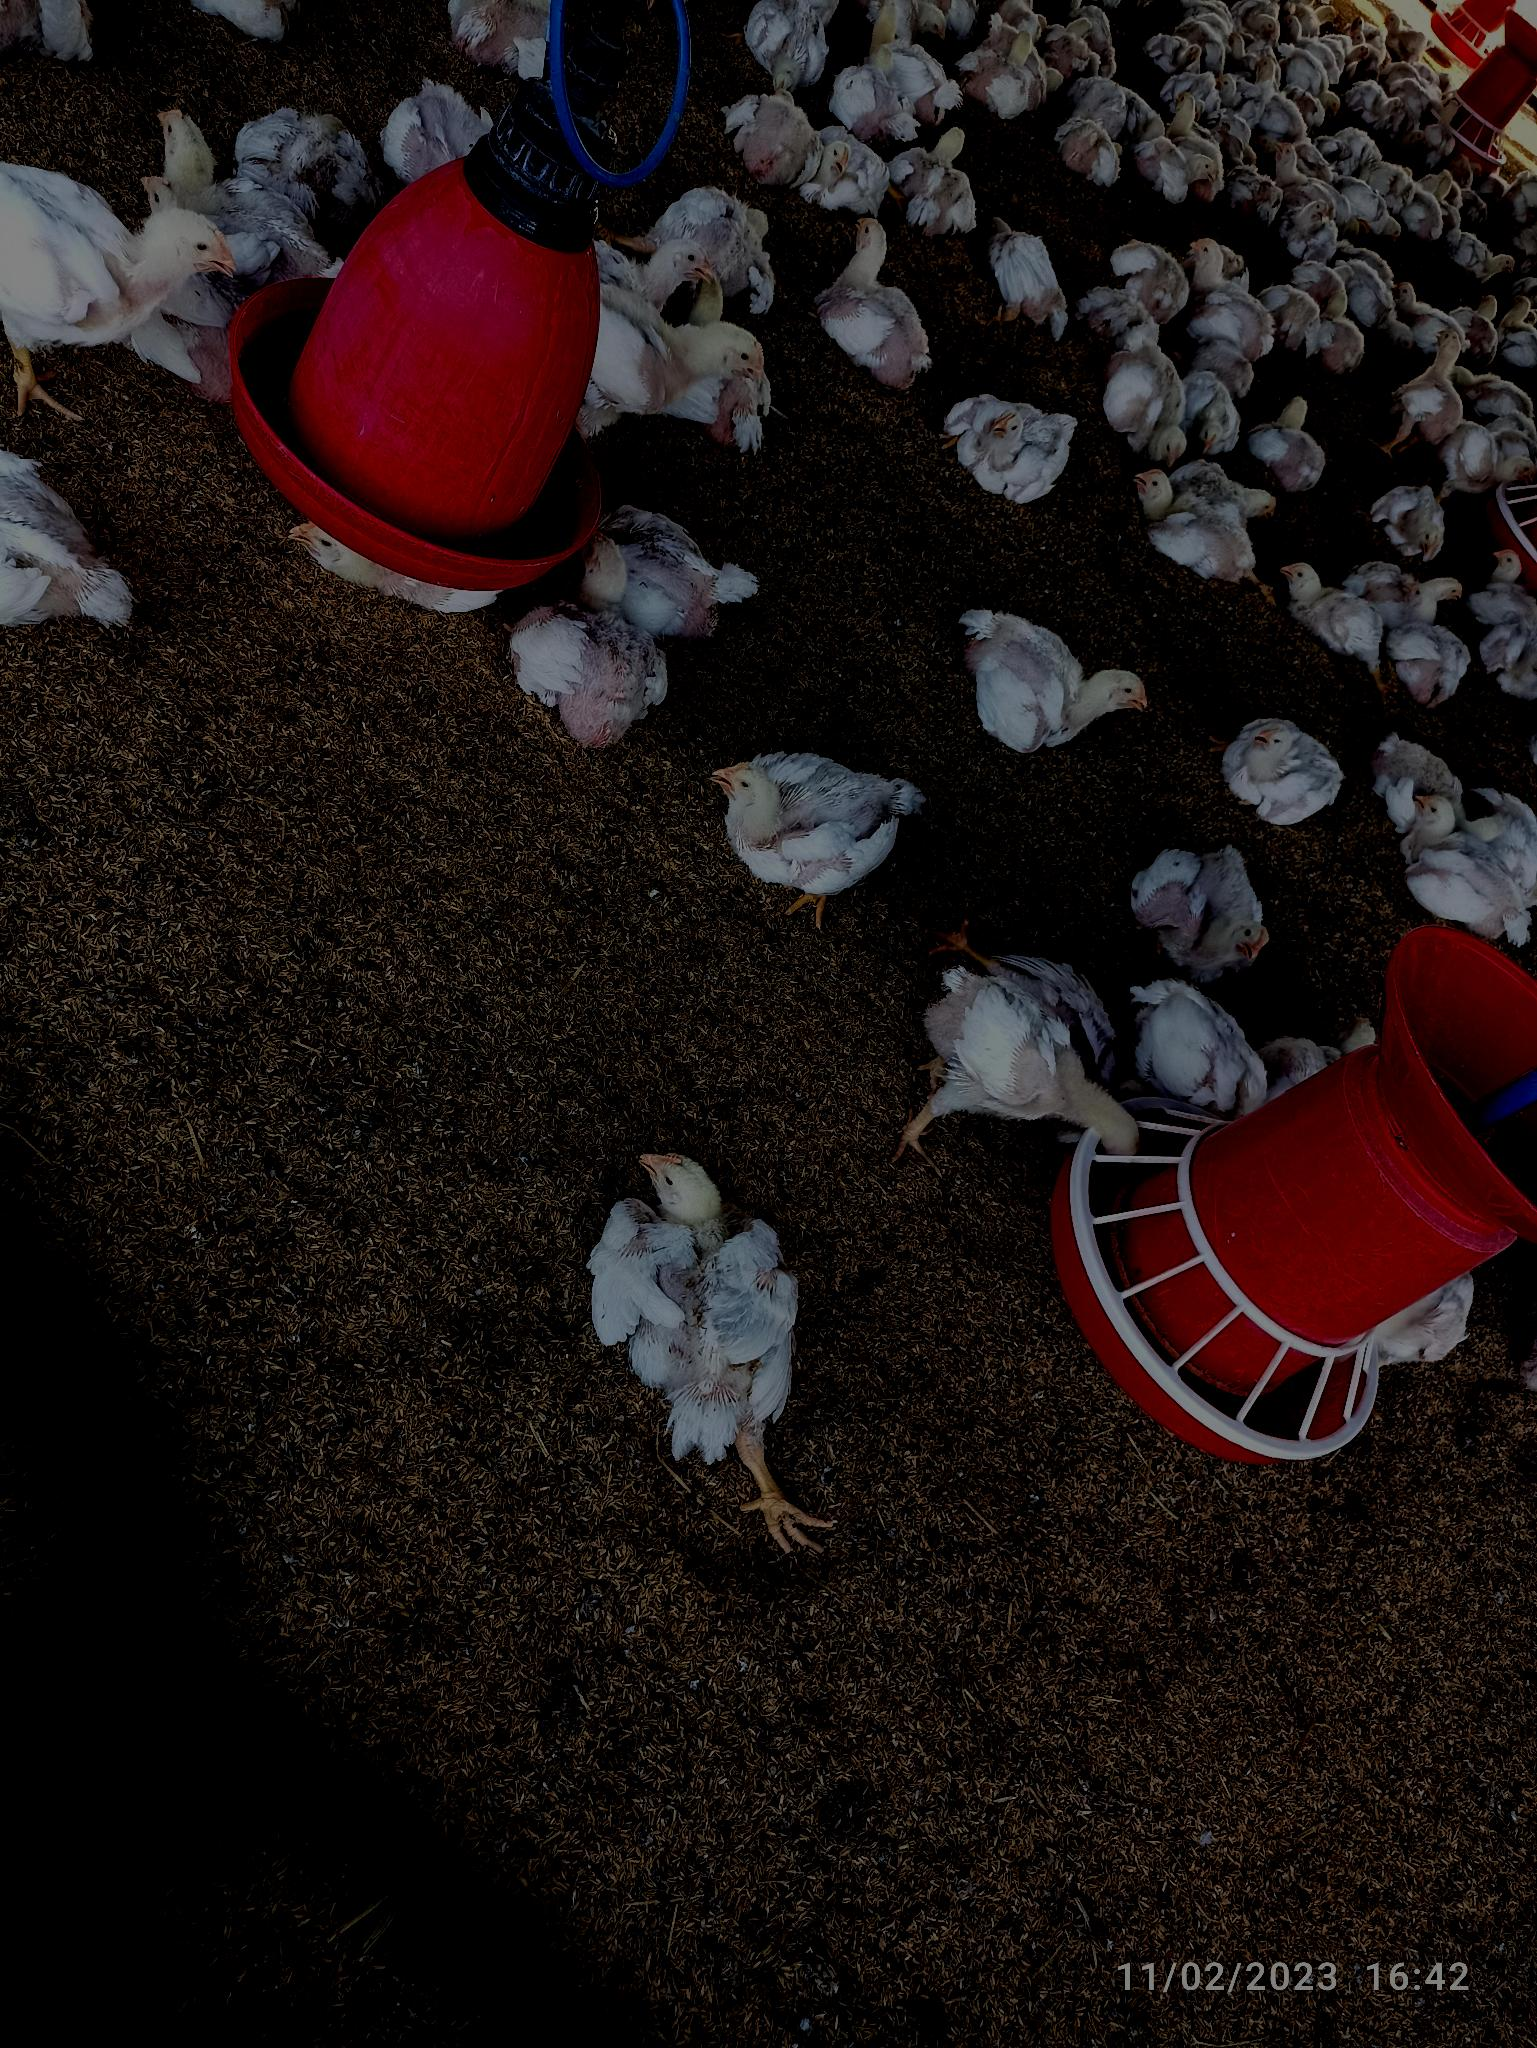Pollos: (591, 1143, 806, 1452), (920, 962, 1146, 1159), (2, 158, 232, 349), (584, 265, 775, 455), (509, 529, 665, 754), (953, 600, 1156, 757), (706, 747, 919, 894), (801, 208, 933, 387), (1132, 841, 1284, 991), (1405, 784, 1532, 941), (1132, 452, 1264, 576), (1274, 554, 1392, 688), (1221, 712, 1348, 826), (1385, 323, 1477, 470), (946, 395, 1066, 502), (1177, 236, 1284, 355), (980, 223, 1083, 337), (896, 124, 986, 221), (1254, 382, 1321, 471), (815, 118, 885, 199)
